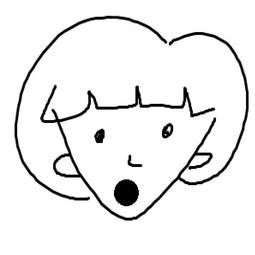ear: (47, 153, 82, 180), (186, 150, 215, 171)
open_mouth: (111, 176, 143, 209)
pointy_nose: (120, 150, 144, 171)
small_eye: (160, 121, 178, 142), (93, 125, 107, 144)
